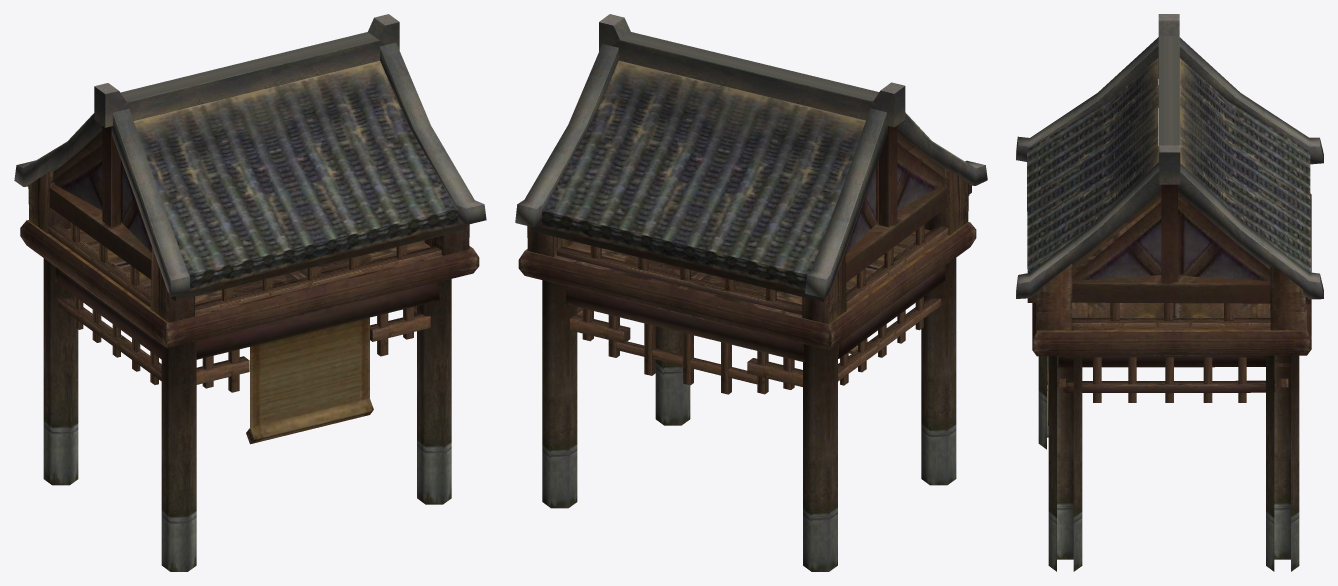
File: SC001Jjianzhu_45.FBX
The picture shows the model from 3 angles, left to right: view 1: azimuth 30°, elevation 25°; view 2: azimuth 150°, elevation 25°; view 3: azimuth 270°, elevation 25°; orthographic projection. The views are drawn at different scales.
Visible parts, largest first — view 1: SC001Jjianzhu_45; view 2: SC001Jjianzhu_45; view 3: SC001Jjianzhu_45.
Boxes of the visible parts, left/top/right/bottom form: SC001Jjianzhu_45: left=14, top=14, right=486, bottom=571; SC001Jjianzhu_45: left=515, top=14, right=987, bottom=571; SC001Jjianzhu_45: left=1016, top=14, right=1323, bottom=571.
Bounding box in the file's own units: 4.06 × 5.35 × 3.55.
